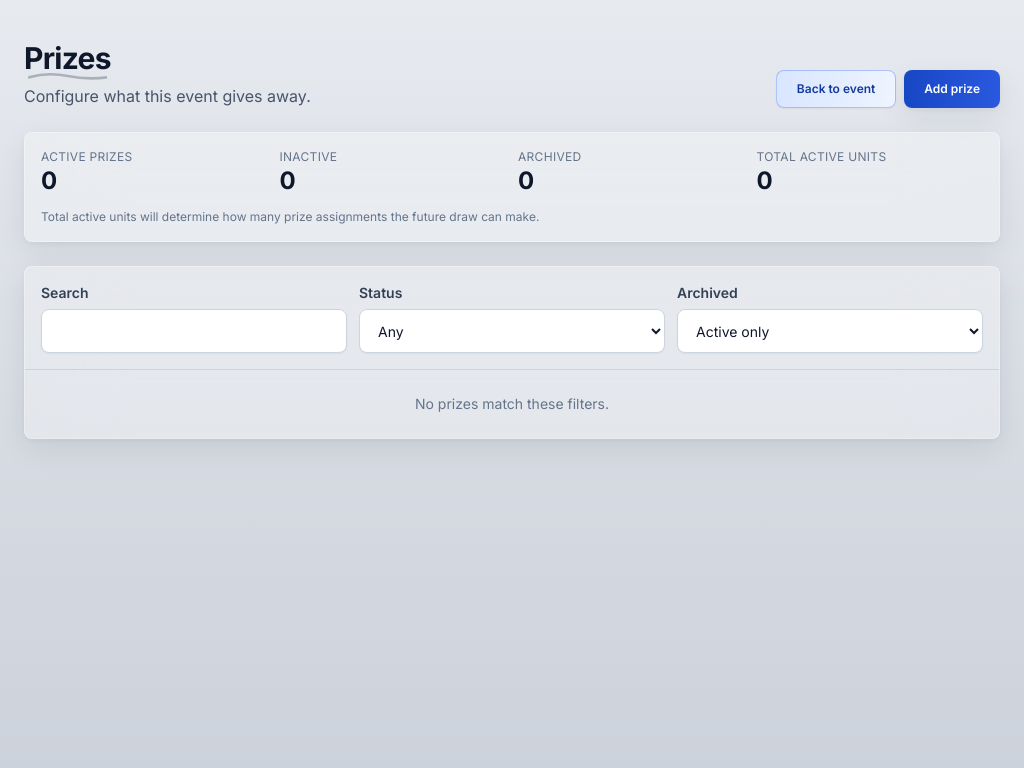
Scenario: create › keeps the dialog and its values when the server rejects
Click the button "Add prize": (952, 89) [904,70,1000,108]
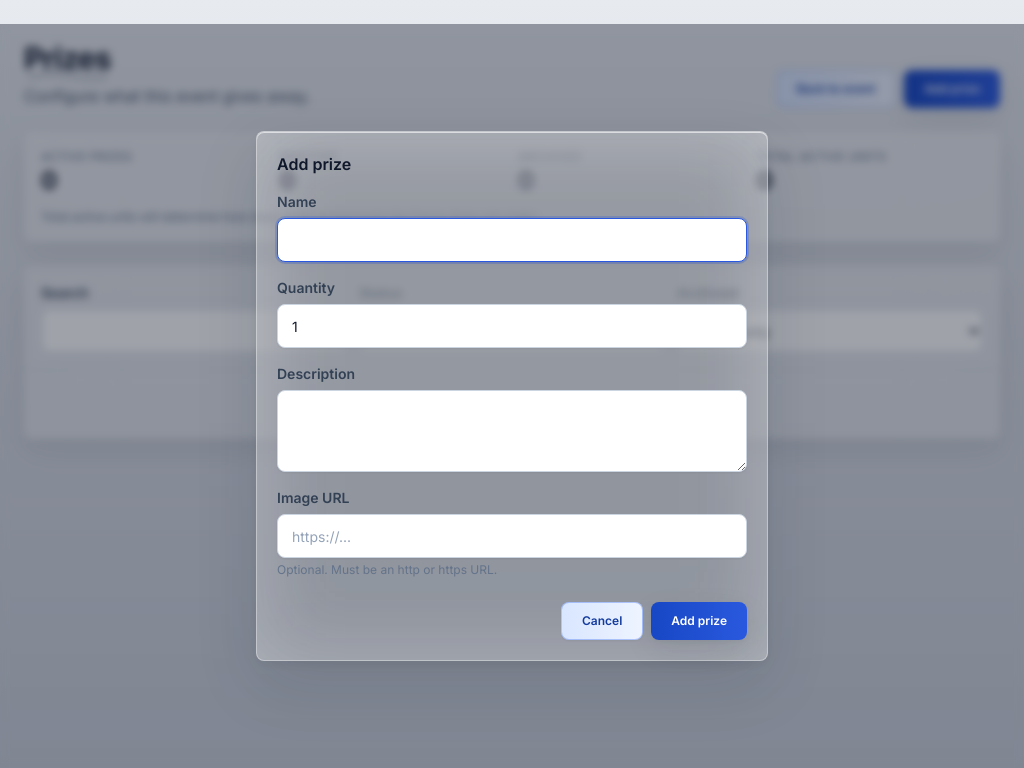
In the field labelled "Name": (512, 240) [277,218,747,262], type "Overflow"
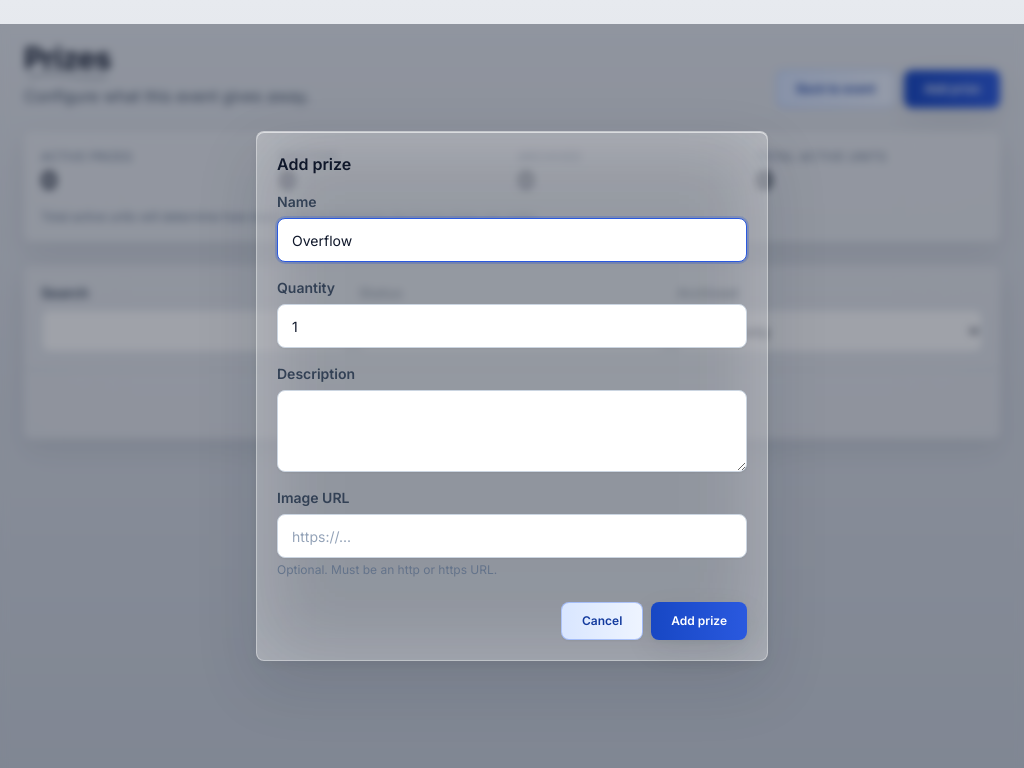
Click the button "Add prize": (699, 621) [651,602,747,640]
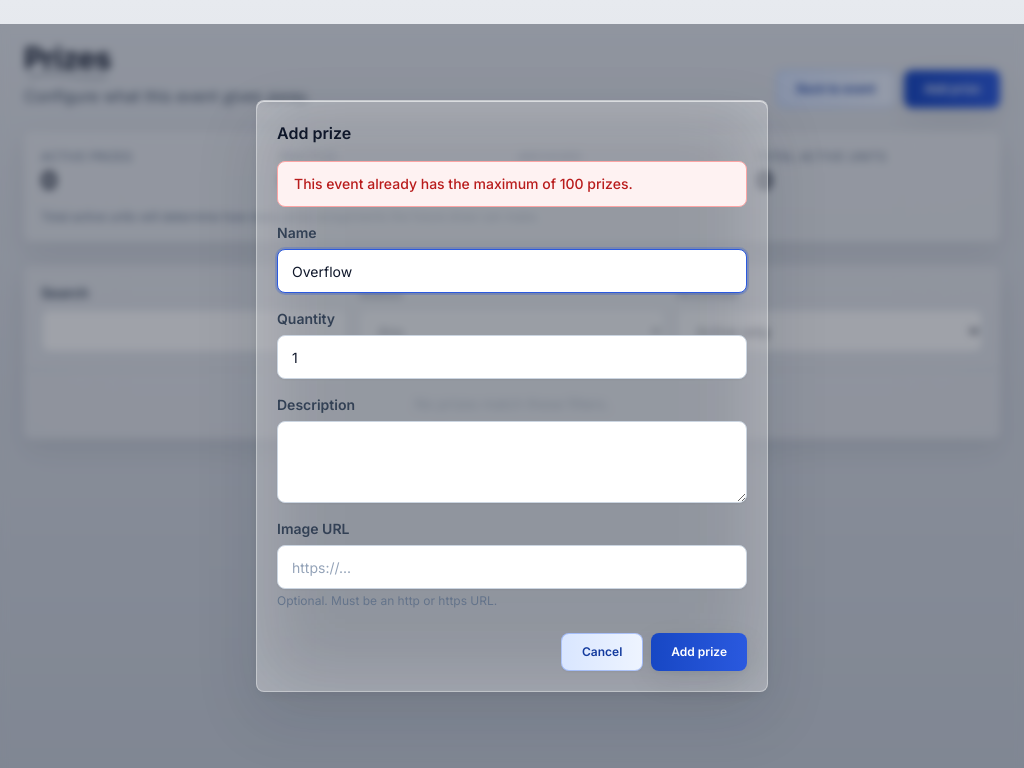
Expected: the text "This event already has the maximum of 100 prizes." is shown, [277,161,747,207]
